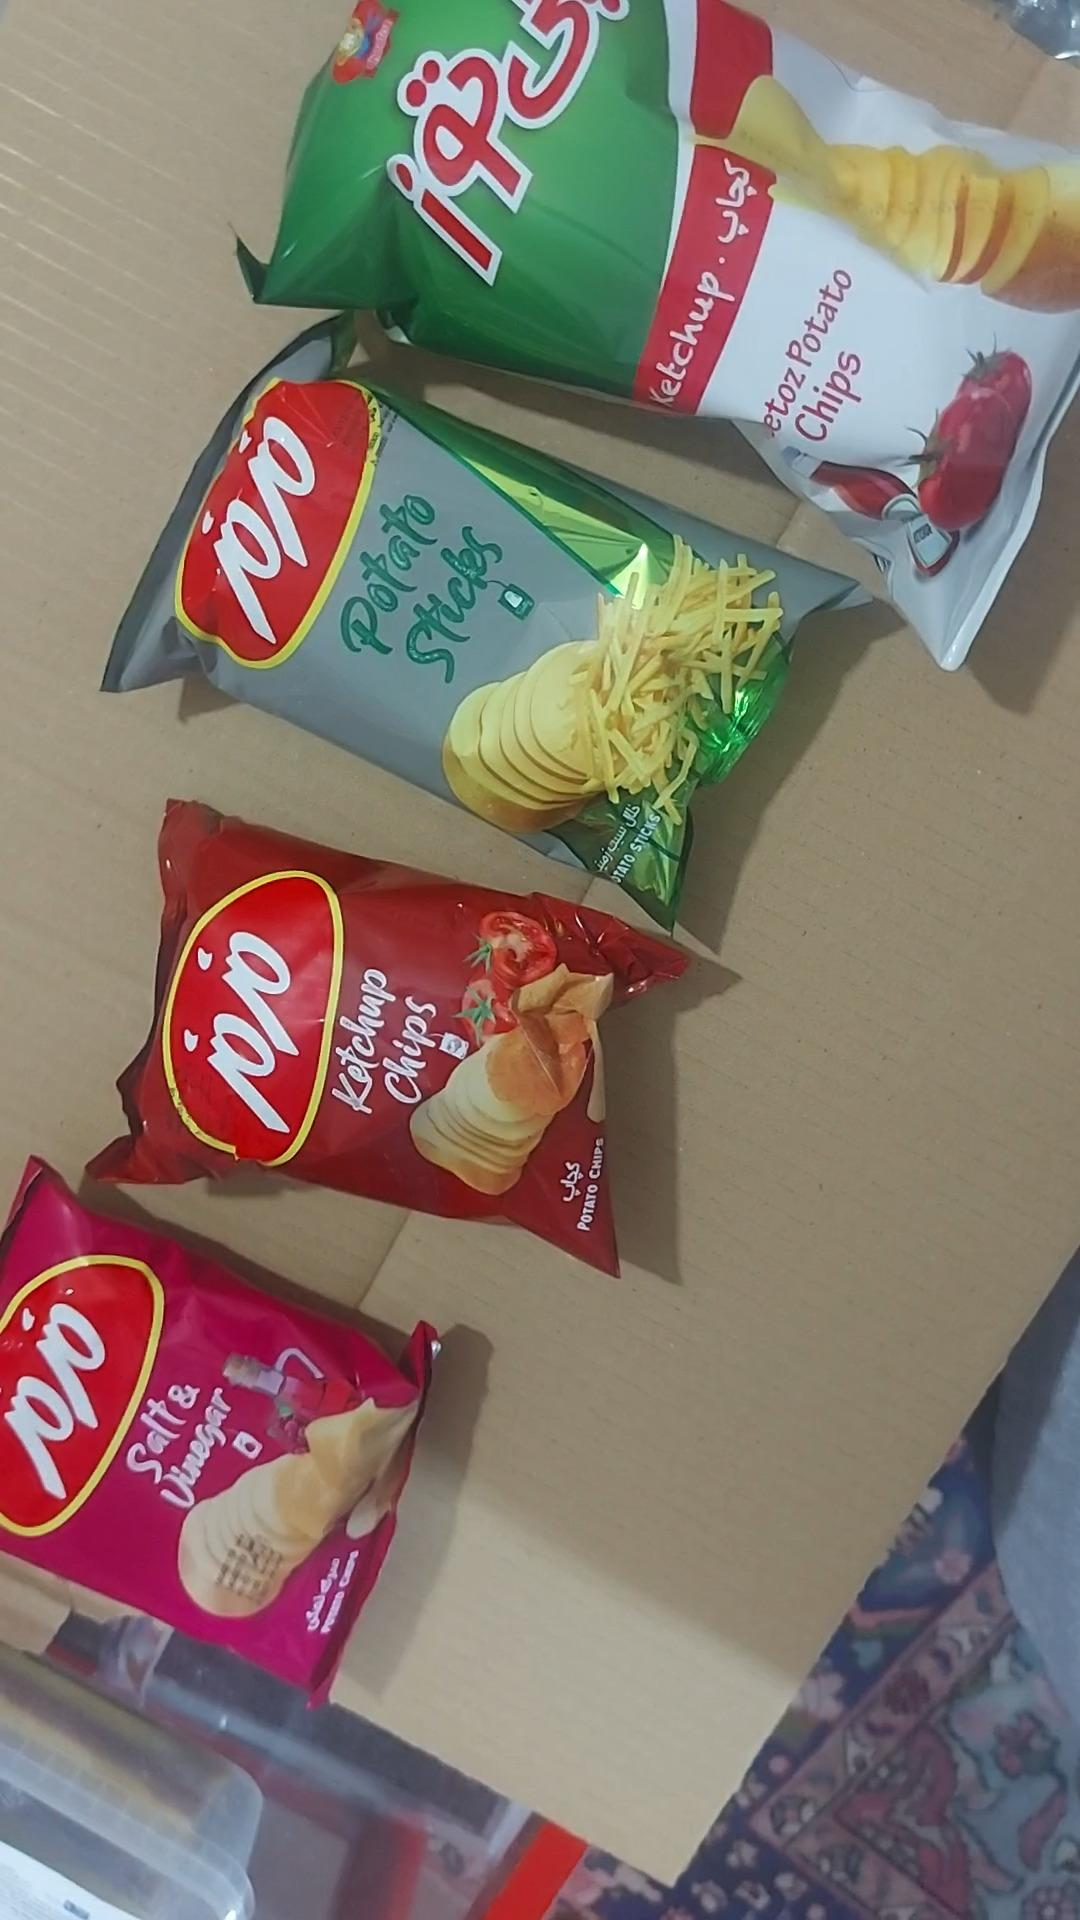Cheetoz ketchup chips: (233, 0, 1079, 674)
Maz Maz ketchup chips: (90, 802, 694, 1278)
Maz Maz potato sticks: (103, 313, 878, 932)
Maz Maz vinegar chips: (0, 1159, 438, 1708)
